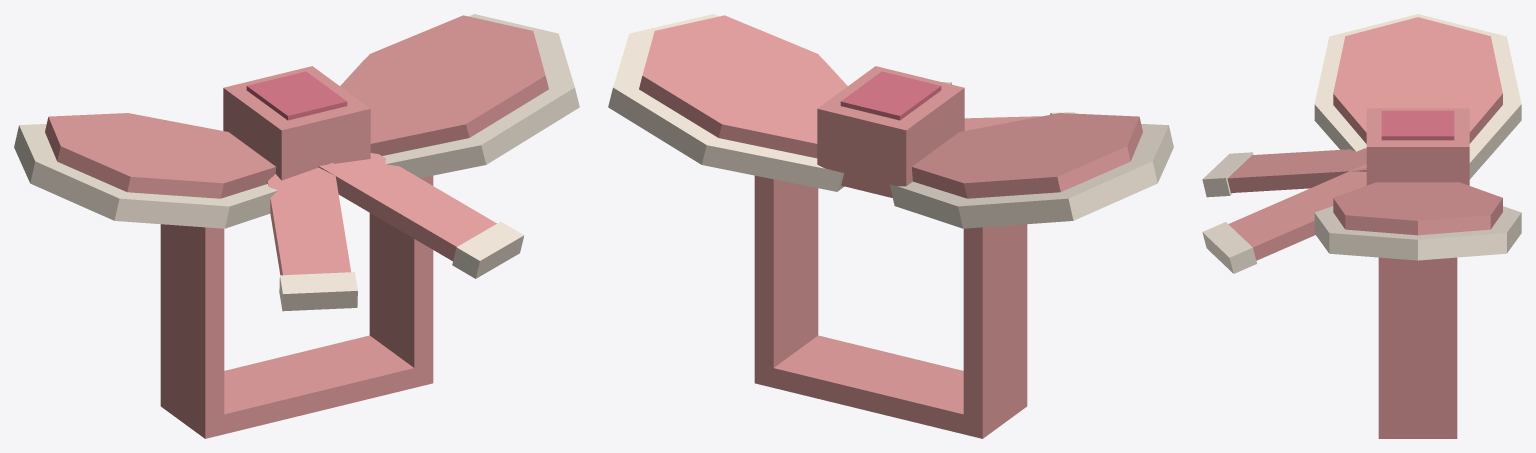
The model's file is CatCafe_Accessory_TailBow_Walk.glb.
The picture shows the model from 3 angles, left to right: view 1: azimuth 30°, elevation 25°; view 2: azimuth 150°, elevation 25°; view 3: azimuth 270°, elevation 25°; orthographic projection. The views are drawn at different scales.
Parts seen in each view (by area): view 1: CatCafe_Accessory_TailBow_Walk; view 2: CatCafe_Accessory_TailBow_Walk; view 3: CatCafe_Accessory_TailBow_Walk.
Part boxes in pixels (bbox=[...]): CatCafe_Accessory_TailBow_Walk: bbox=[14, 14, 579, 438]; CatCafe_Accessory_TailBow_Walk: bbox=[608, 14, 1173, 438]; CatCafe_Accessory_TailBow_Walk: bbox=[1202, 14, 1521, 438].
Size of the model in its own units: 0.6174 by 0.3387 by 0.362.
1 material, 1 textured.
